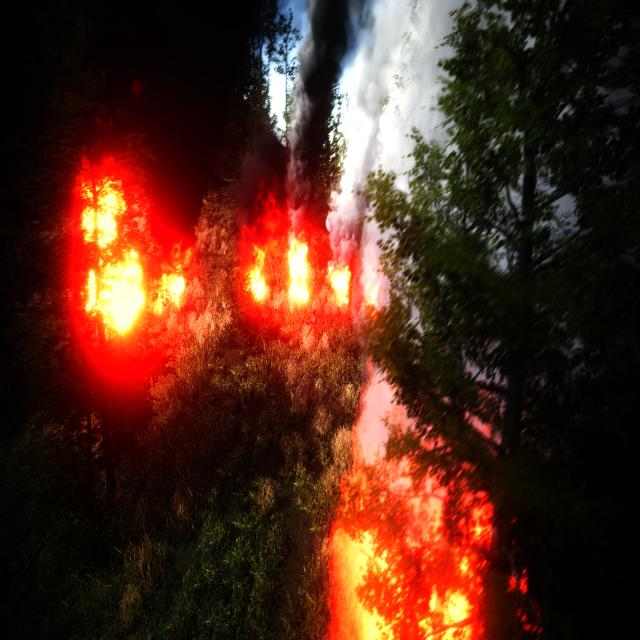Human: (304, 306, 317, 331)
